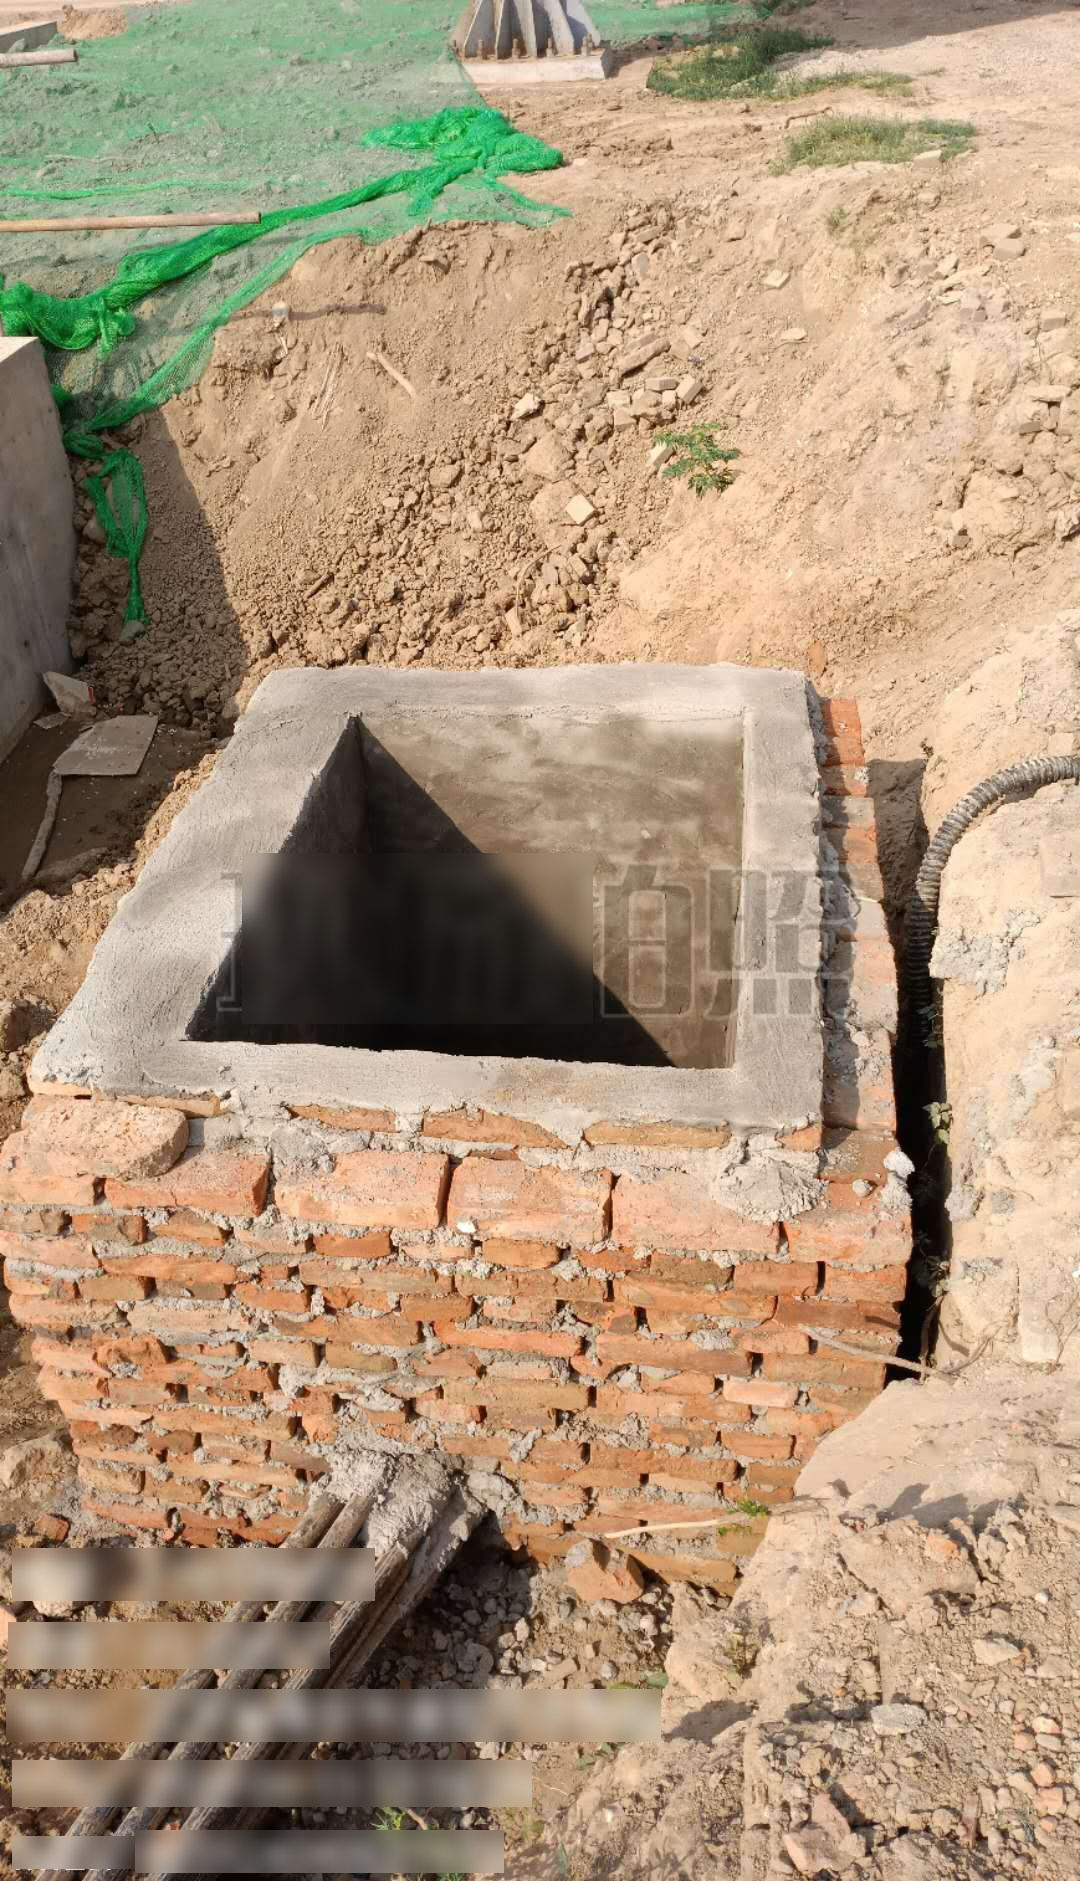lose: (31, 668, 826, 1127)
